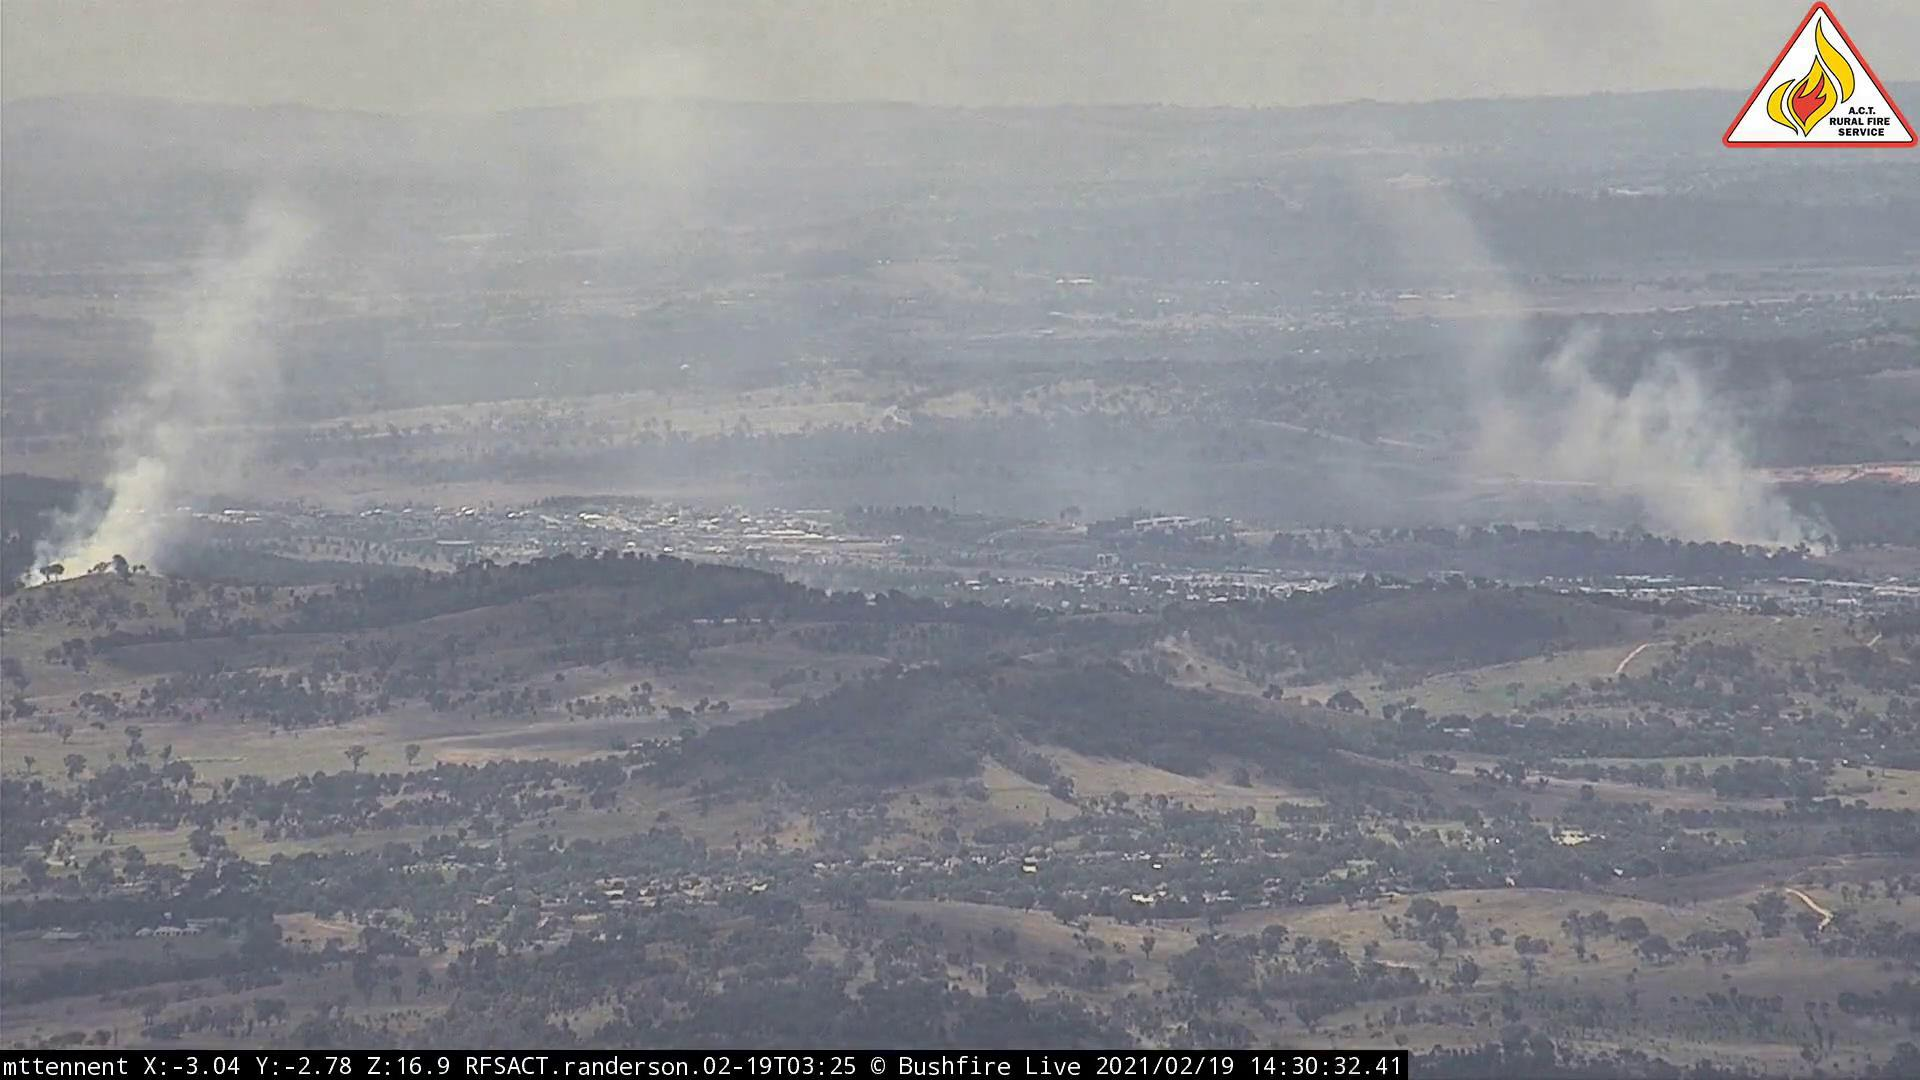Smoke: (1361, 198, 1842, 570), (18, 173, 410, 605)
